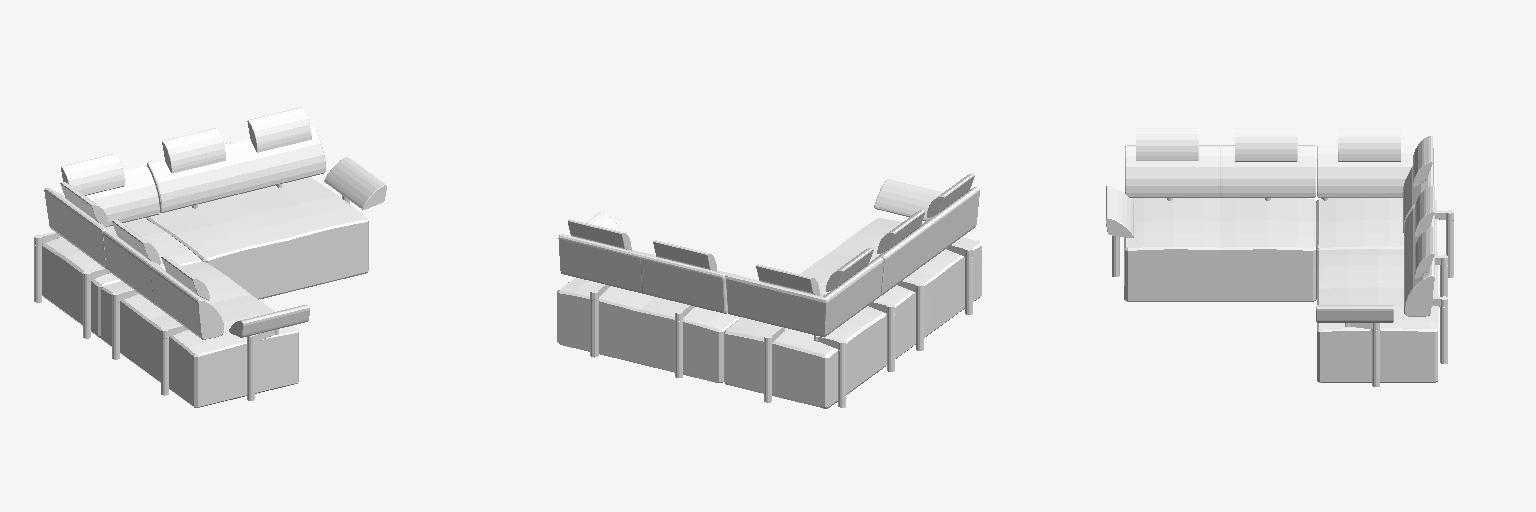
3 views of the same model, side by side, from view 1: azimuth 30°, elevation 25°; view 2: azimuth 150°, elevation 25°; view 3: azimuth 270°, elevation 25° (orthographic).
Parts seen in each view (by area): view 1: aws_SofaC_01_visualMesh; view 2: aws_SofaC_01_visualMesh; view 3: aws_SofaC_01_visualMesh.
Boxes of the visible parts, box(x1,y1,x2,y2) form: aws_SofaC_01_visualMesh: box(34, 107, 386, 407); aws_SofaC_01_visualMesh: box(557, 173, 981, 408); aws_SofaC_01_visualMesh: box(1106, 128, 1453, 386).
Size of the model in its own units: 2.42 by 0.971 by 2.44.